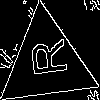R: (21, 37, 68, 80)
